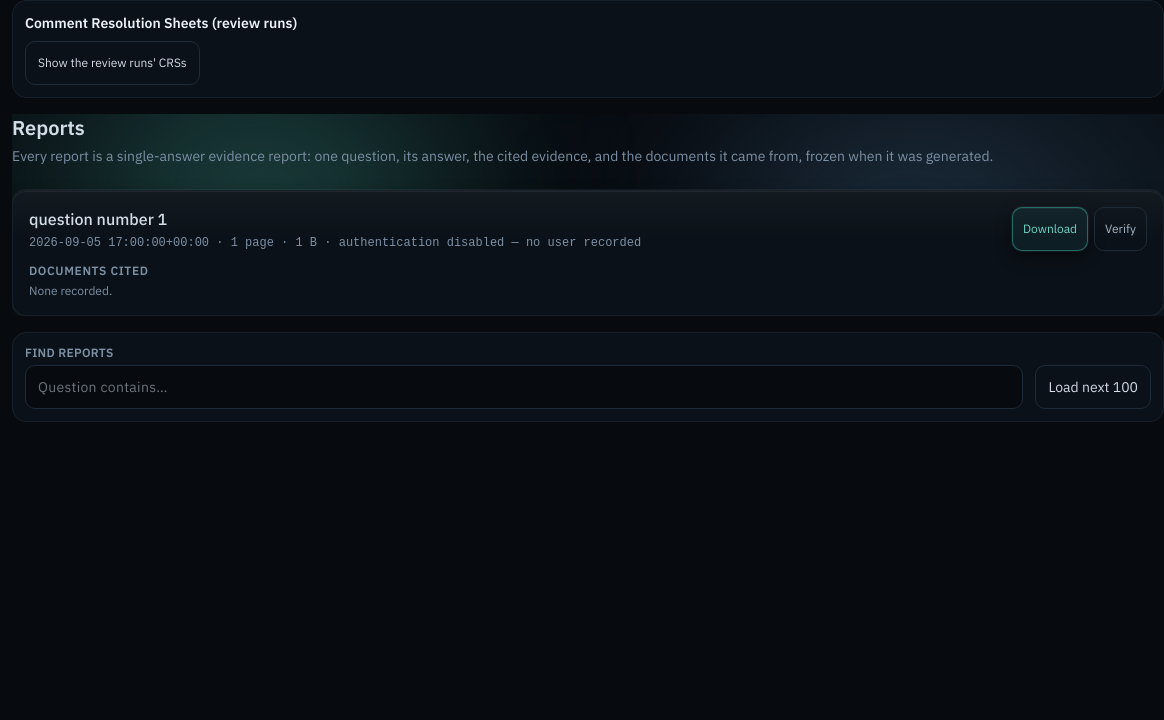
Test: ReportsScreen failed loads › a failed 'Load next 100' keeps the rows already loaded
Expected: the heading "question number 1" is shown, [29,209,167,229]
Click the button "Load next 100" at (1093, 387), box [1035,365,1151,409]
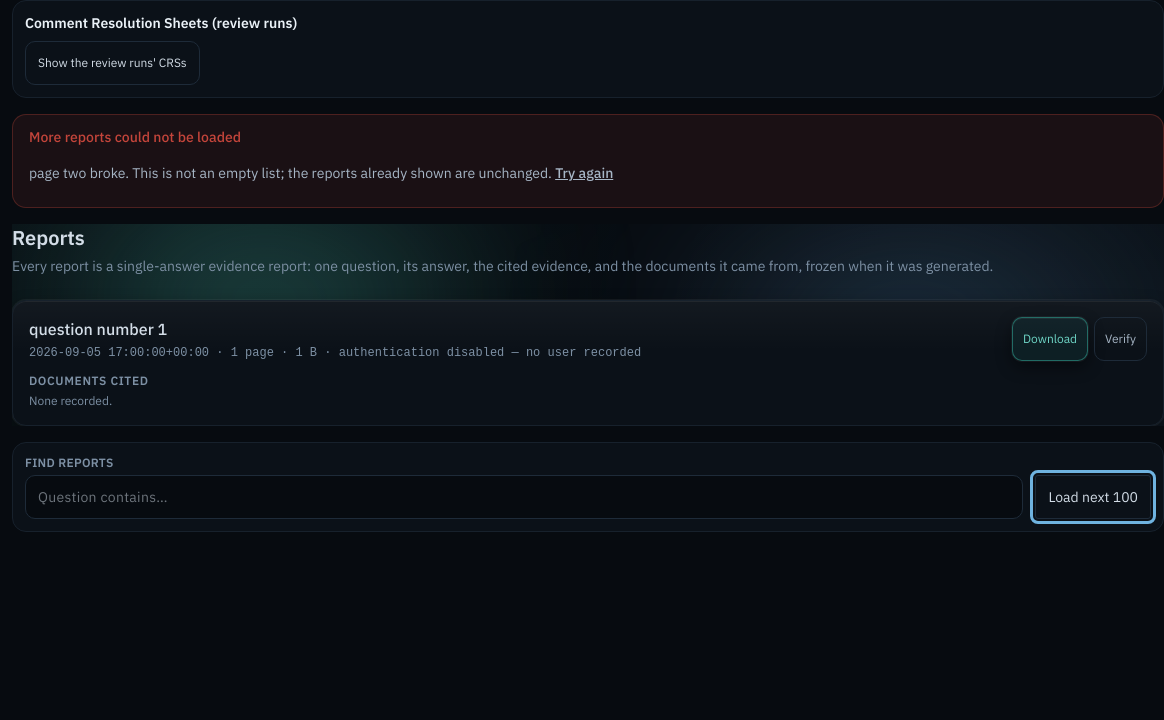
Expected: the heading "question number 1" is shown, [29,319,167,339]
Expected: the message shows "More reports could not be loaded", [29,128,241,146]
